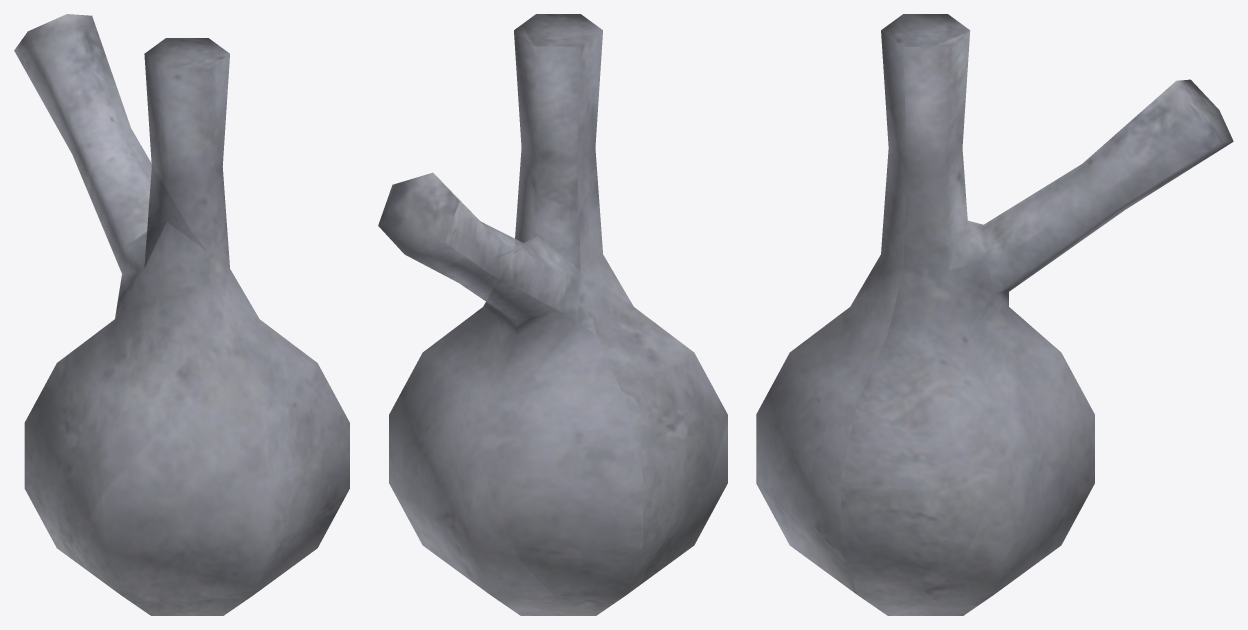
Rendered from acid_machine_bottle_empty04.dae.
The picture shows the model from 3 angles, left to right: view 1: azimuth 30°, elevation 25°; view 2: azimuth 150°, elevation 25°; view 3: azimuth 270°, elevation 25°; orthographic projection. The views are drawn at different scales.
Visible parts, largest first — view 1: acid_machine_bott; view 2: acid_machine_bott; view 3: acid_machine_bott.
Boxes of the visible parts, bbox=[...] form: acid_machine_bott: bbox=[14, 14, 349, 615]; acid_machine_bott: bbox=[378, 14, 727, 615]; acid_machine_bott: bbox=[756, 14, 1233, 615].
Bounding box in the file's own units: 0.2038 × 0.3317 × 0.4379.
